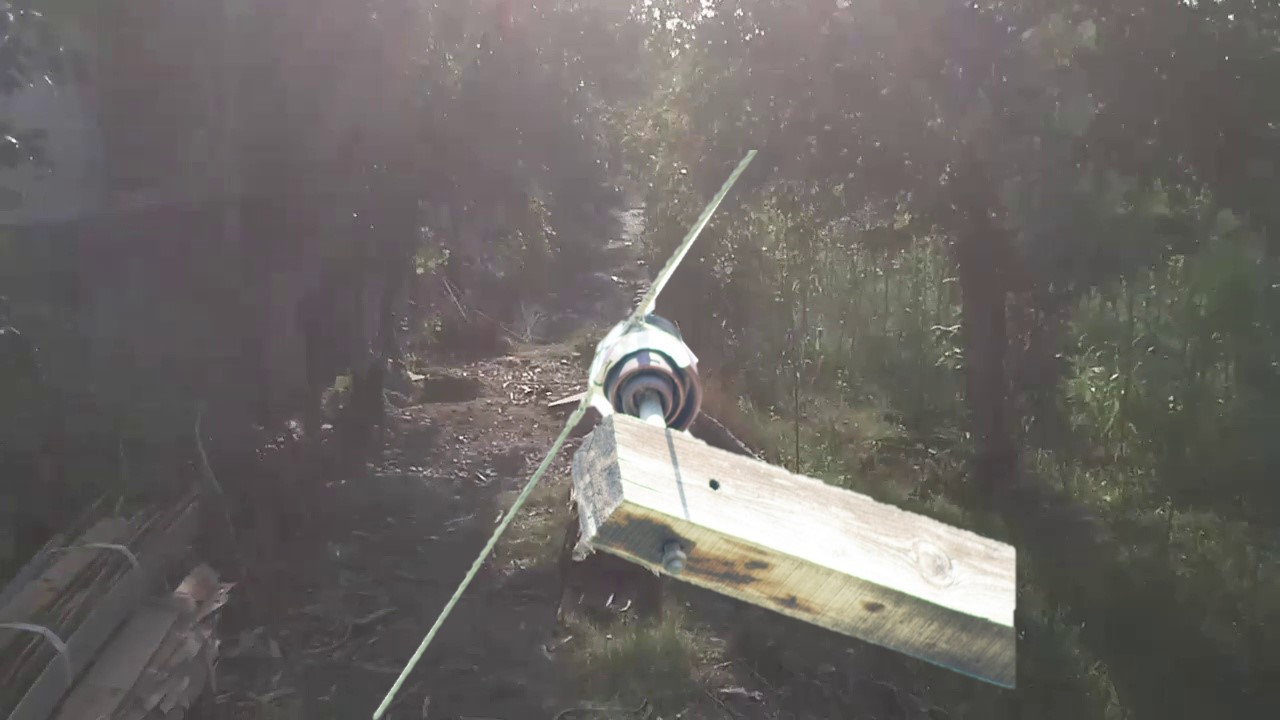defect_pin: (579, 306, 708, 429)
